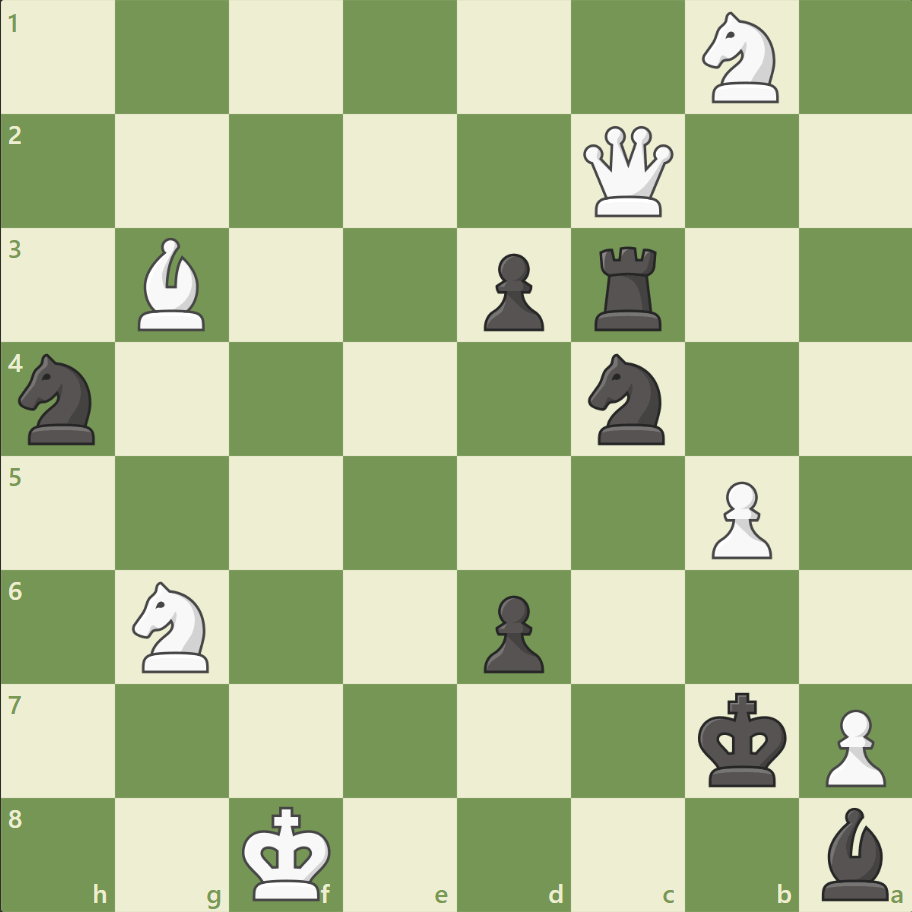B: (131, 233, 215, 336)
K: (238, 798, 338, 906)
N: (124, 575, 222, 677), (692, 7, 789, 110)
P: (701, 473, 776, 564), (815, 700, 889, 791)
Q: (578, 122, 677, 222)
b: (812, 801, 896, 904)
k: (692, 685, 792, 793)
n: (579, 348, 676, 450), (11, 348, 108, 450)
p: (474, 586, 549, 677), (474, 246, 549, 337)
r: (587, 239, 670, 336)
